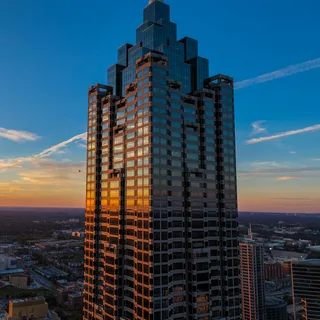high_rise_building: (81, 5, 249, 317)
